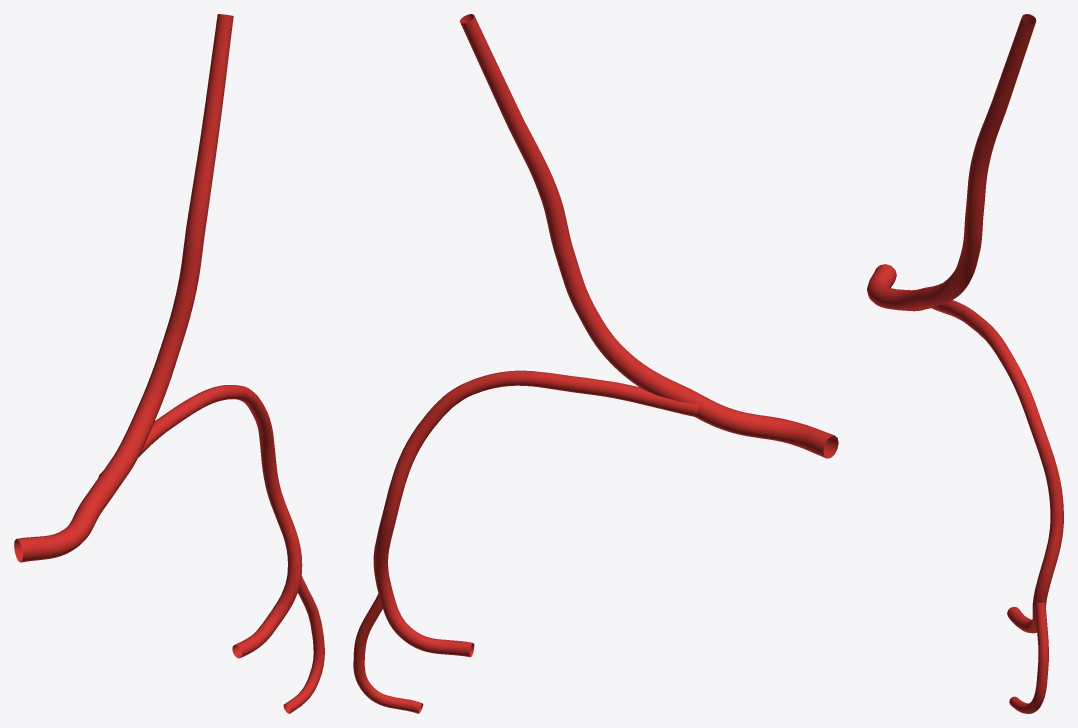
File: circulatorio-left-colic-artery.glb
3 views of the same model, side by side, from view 1: azimuth 30°, elevation 25°; view 2: azimuth 150°, elevation 25°; view 3: azimuth 270°, elevation 25° (orthographic). The views are drawn at different scales.
Parts seen in each view (by area): view 1: Ascending branch of left colic artery, Descending branch of left colic artery, Left colic artery; view 2: Descending branch of left colic artery, Ascending branch of left colic artery, Left colic artery; view 3: Descending branch of left colic artery, Ascending branch of left colic artery, Left colic artery.
Boxes of the visible parts, x1,y1,x2,y2 form: Ascending branch of left colic artery: (110, 14, 233, 472); Descending branch of left colic artery: (98, 385, 324, 713); Left colic artery: (14, 459, 128, 562); Descending branch of left colic artery: (353, 370, 698, 713); Ascending branch of left colic artery: (459, 14, 686, 401); Left colic artery: (681, 387, 838, 458); Descending branch of left colic artery: (931, 300, 1063, 713); Ascending branch of left colic artery: (920, 14, 1036, 307); Left colic artery: (867, 264, 930, 311).
Size of the model in its own units: 0.0557 by 0.0967 by 0.026.
